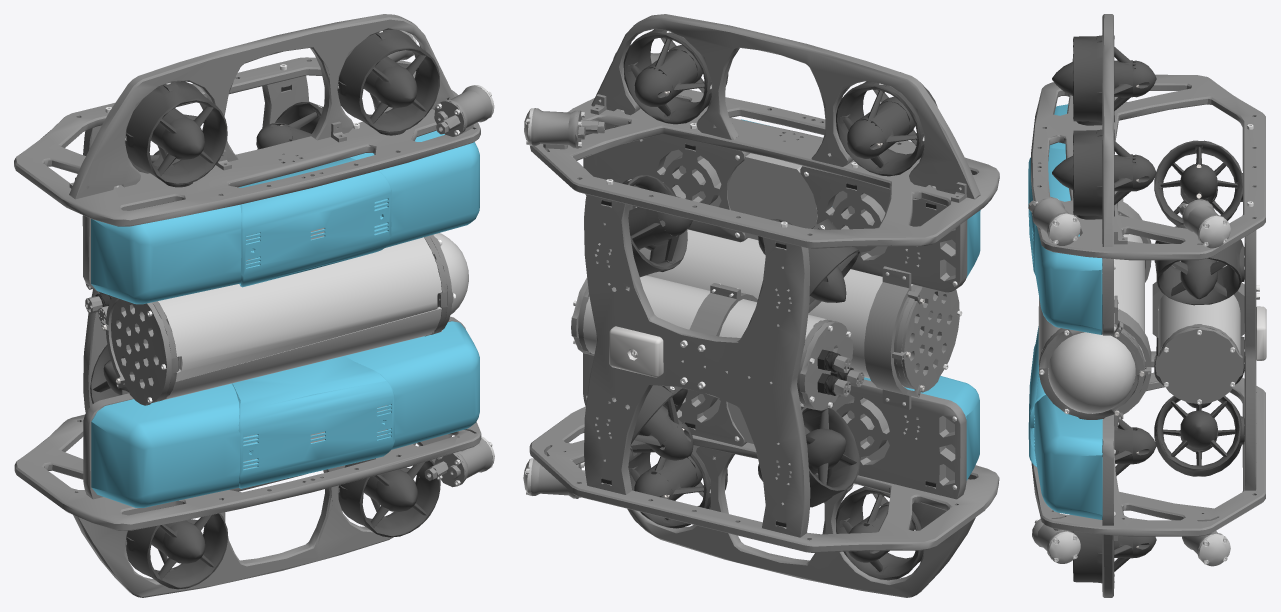
The model's file is bluerov2_heavy_reach.glb.
The picture shows the model from 3 angles, left to right: view 1: azimuth 30°, elevation 25°; view 2: azimuth 150°, elevation 25°; view 3: azimuth 270°, elevation 25°; orthographic projection. The views are drawn at different scales.
Visible parts, largest first — view 1: BROV2-HEAVY-MODIFIED; view 2: BROV2-HEAVY-MODIFIED; view 3: BROV2-HEAVY-MODIFIED.
Boxes of the visible parts, box(x1,y1,x2,y2) form: BROV2-HEAVY-MODIFIED: box(14, 14, 494, 597); BROV2-HEAVY-MODIFIED: box(523, 14, 999, 597); BROV2-HEAVY-MODIFIED: box(1028, 14, 1266, 597).
Size of the model in its own units: 18.01 by 22.63 by 10.12.
